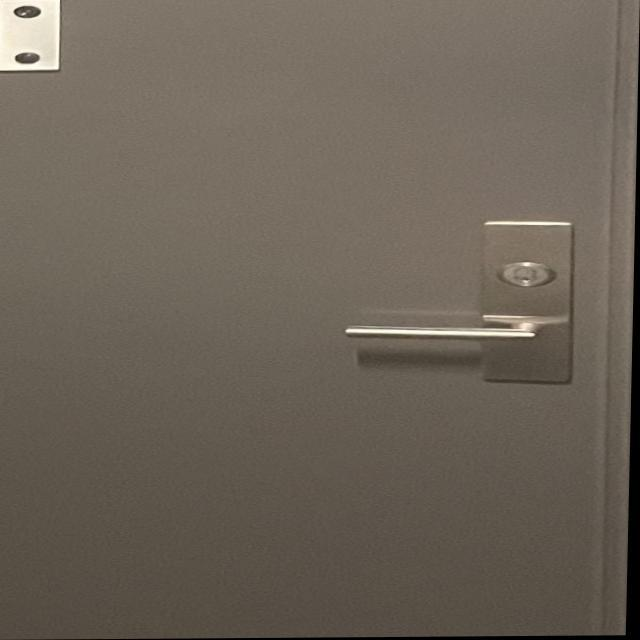door_handle: (331, 298, 597, 362)
